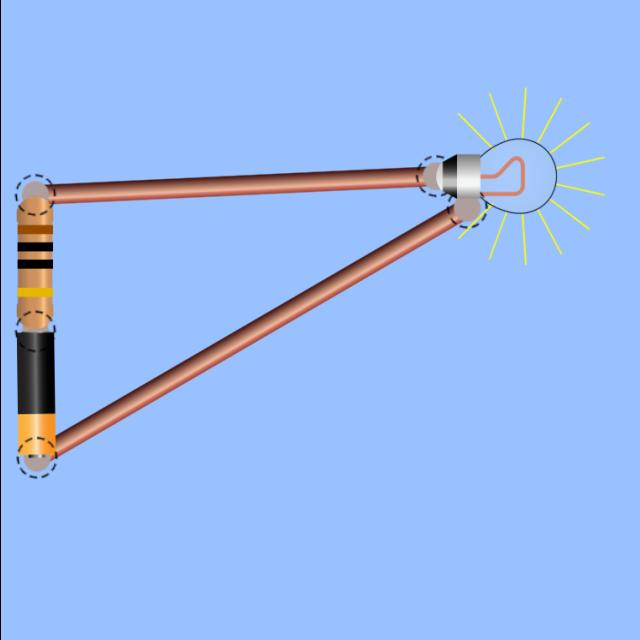Battery: (16, 332, 55, 455)
Light Bulb: (442, 139, 556, 214)
Resistor: (16, 197, 52, 330)
Wire: (55, 207, 461, 456), (47, 167, 424, 204)
